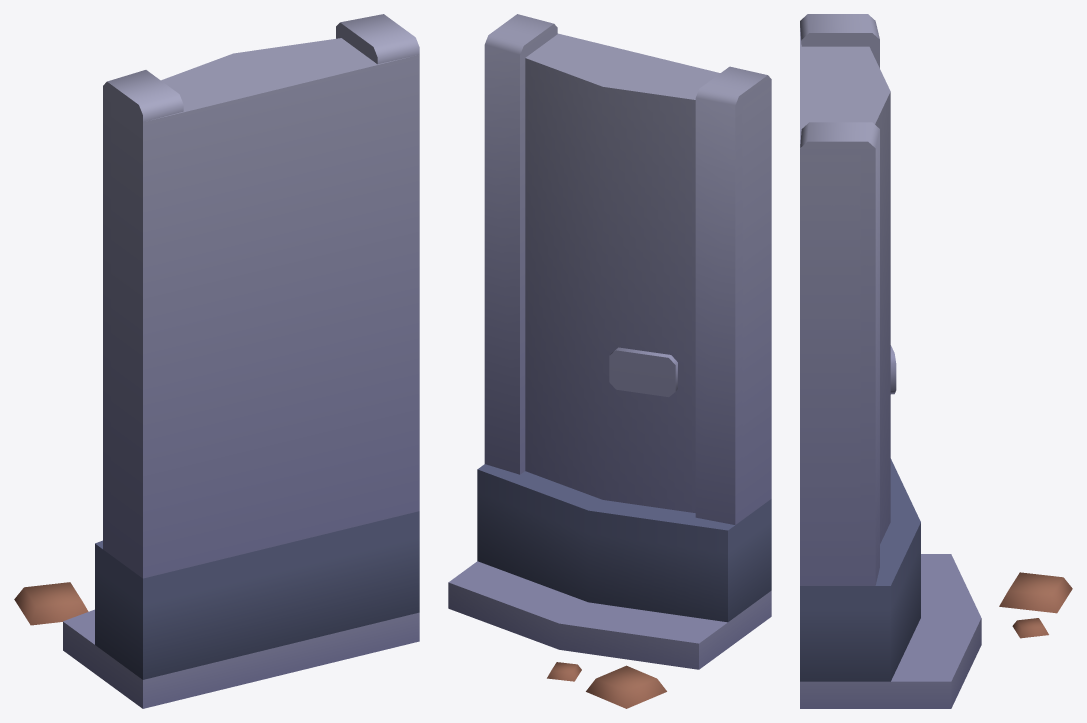
File: template-wall-half.glb
3 renders of one model, left to right at view 1: azimuth 30°, elevation 25°; view 2: azimuth 150°, elevation 25°; view 3: azimuth 270°, elevation 25°, orthographic. The views are drawn at different scales.
Parts seen in each view (by area): view 1: template-wall-half; view 2: template-wall-half; view 3: template-wall-half.
Boxes of the visible parts, x1=… form: template-wall-half: x1=14, y1=14, x2=419, y2=708; template-wall-half: x1=448, y1=14, x2=771, y2=708; template-wall-half: x1=800, y1=14, x2=1072, y2=708.
Size of the model in its own units: 2 by 4.15 by 1.81.
Materials: 1 (1 with a texture image).
